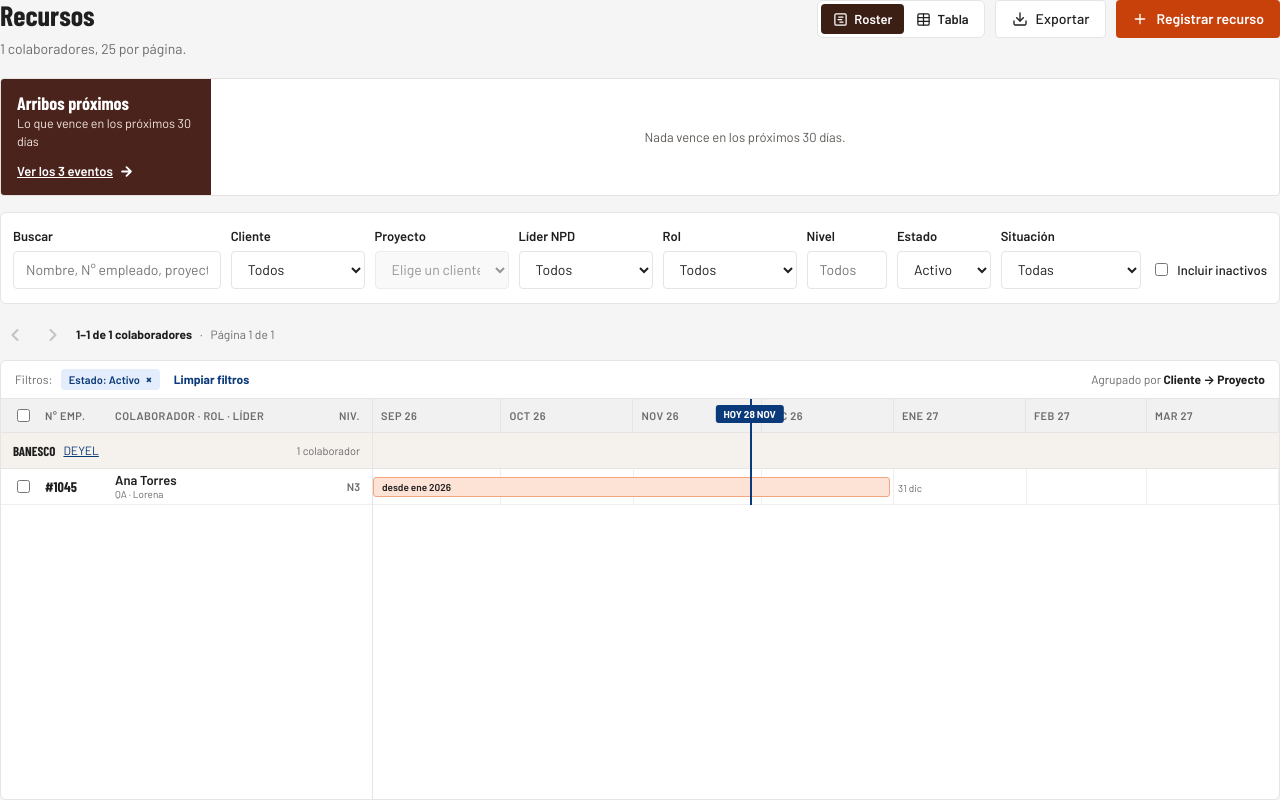
ResourcesPage · BUG-06 export › shows an error banner instead of an alert() when the export fails
expect the text "#1045" is shown: met, box [45,478,77,495]
Click the button "Exportar" at [1050, 19], box [995,0,1106,38]
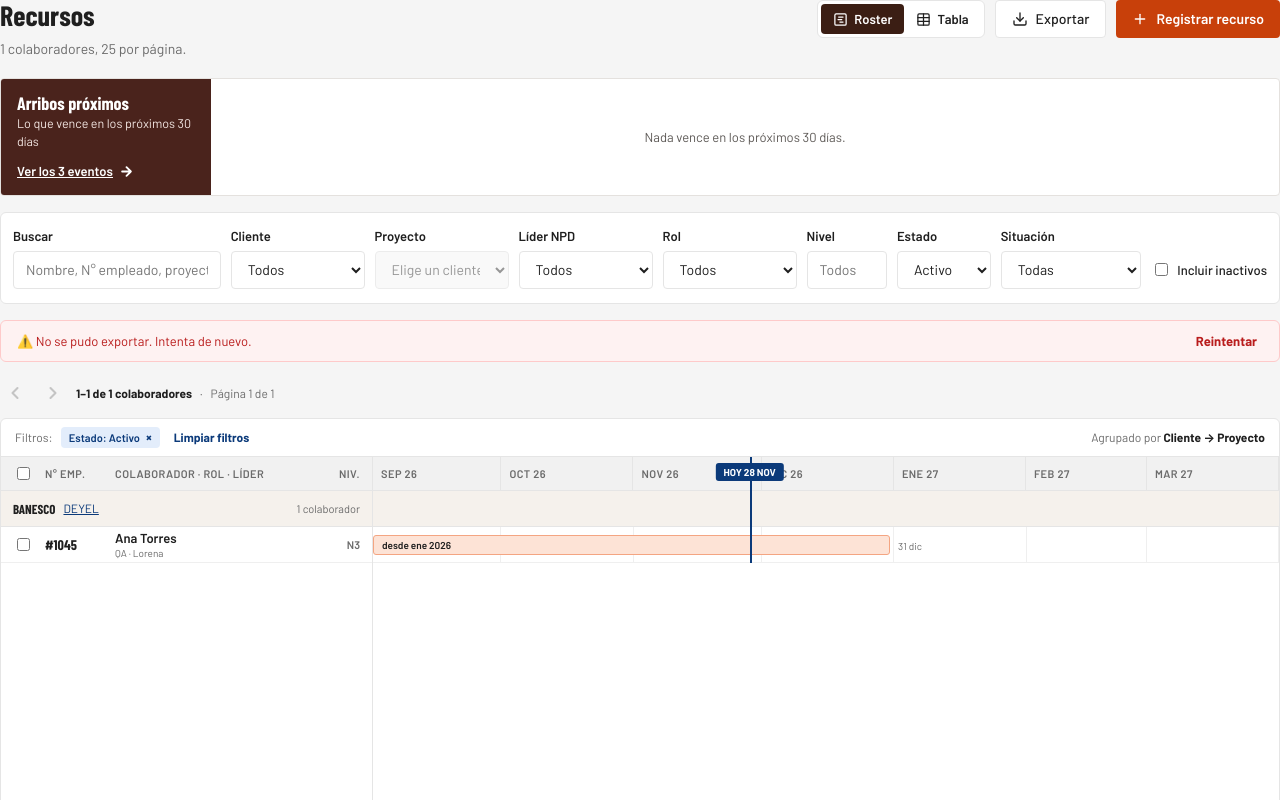
expect the text "⚠️ No se pudo exportar. Intenta de nuevo." is shown: met, box [17,332,252,350]
